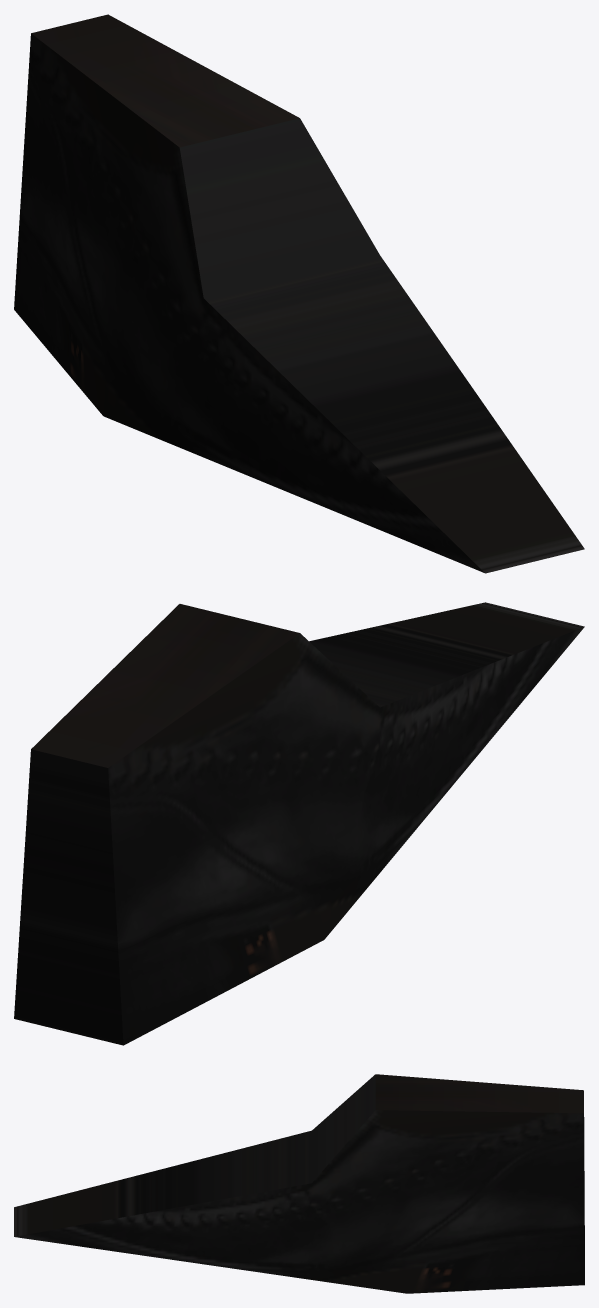
File: p6_shoe_single_01_lod2.glb
3 renders of one model, top to bottom at view 1: azimuth 30°, elevation 25°; view 2: azimuth 150°, elevation 25°; view 3: azimuth 270°, elevation 25°, orthographic. The views are drawn at different scales.
Parts seen in each view (by area): view 1: surf0; view 2: surf0; view 3: surf0.
Part boxes in pixels (left/top/right/bottom): surf0: left=14, top=14, right=584, bottom=573; surf0: left=14, top=602, right=584, bottom=1045; surf0: left=14, top=1074, right=584, bottom=1293.
Bounding box in the file's own units: 3.37 × 4.2 × 12.31.
